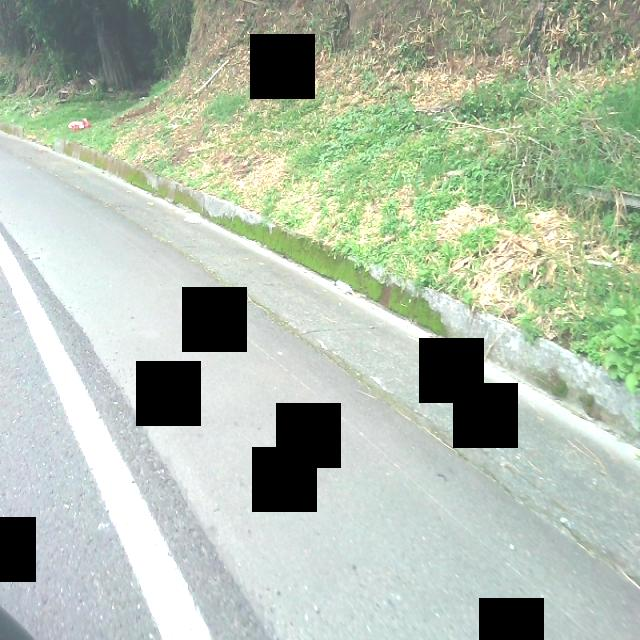DITCH: (11, 81, 638, 635), (2, 111, 638, 639), (1, 126, 639, 638)
